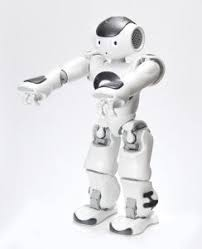nao: (11, 13, 173, 237)
